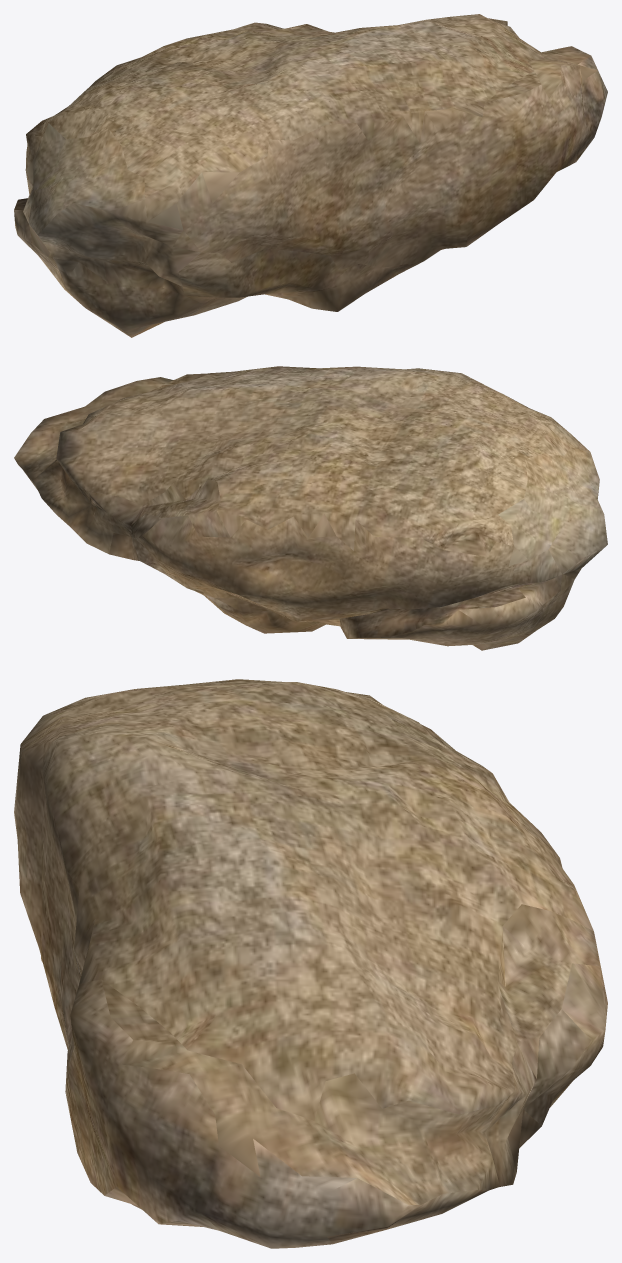
Rendered from rock_boulder_04.glb.
The picture shows the model from 3 angles, top to bottom: view 1: azimuth 30°, elevation 25°; view 2: azimuth 150°, elevation 25°; view 3: azimuth 270°, elevation 25°; orthographic projection. The views are drawn at different scales.
Visible parts, largest first — view 1: rock_boulder_04; view 2: rock_boulder_04; view 3: rock_boulder_04.
Boxes of the visible parts, box(x1,y1,x2,y2) form: rock_boulder_04: box(14, 14, 607, 337); rock_boulder_04: box(14, 366, 607, 650); rock_boulder_04: box(14, 679, 607, 1248).
Size of the model in its own units: 1.36 by 0.5255 by 0.7395.
Materials: 1 (1 with a texture image).
